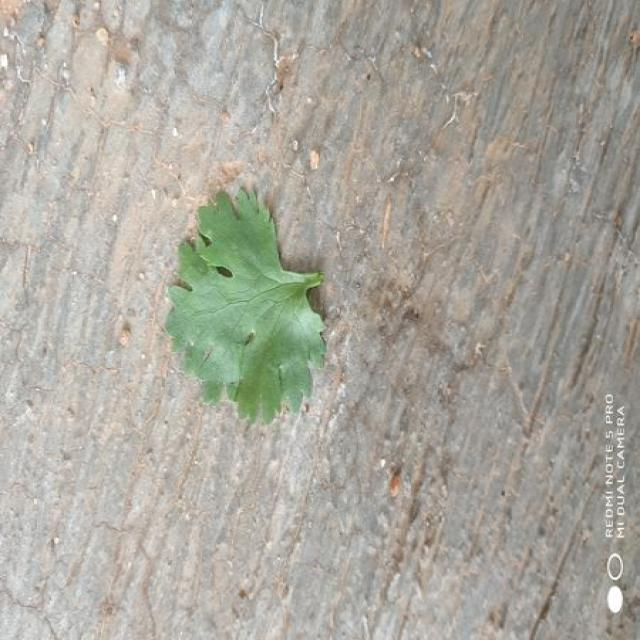coriender: (165, 190, 325, 423)
